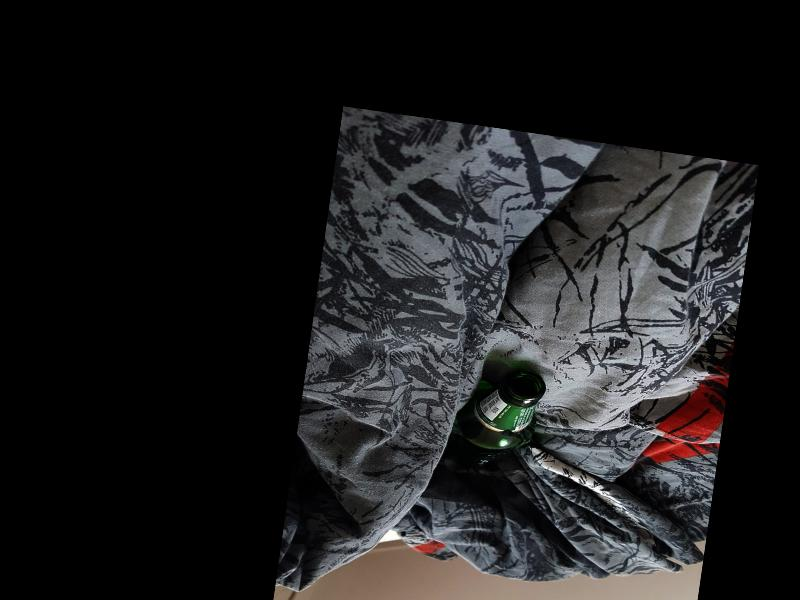Beer: (450, 361, 544, 474)
